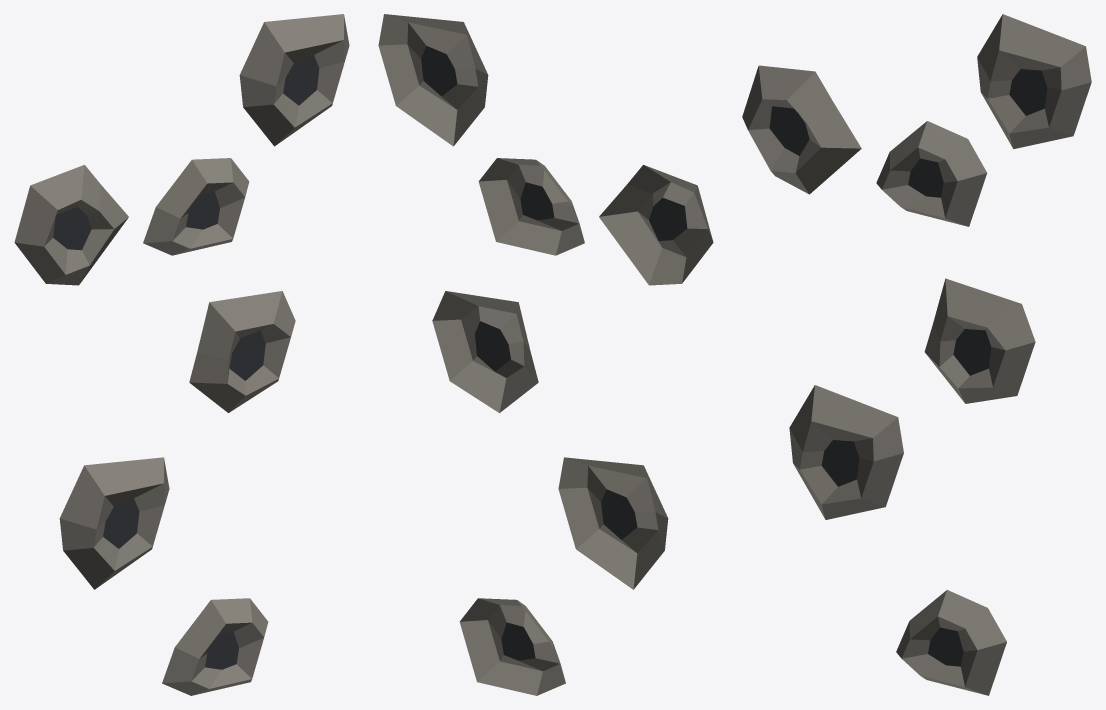
Rendered from SM_Bullet_Hole_D.gltf.
The picture shows the model from 3 angles, left to right: view 1: azimuth 30°, elevation 25°; view 2: azimuth 150°, elevation 25°; view 3: azimuth 330°, elevation 25°; orthographic projection. The views are drawn at different scales.
Parts seen in each view (by area): view 1: SM_Bullet_Hole_D; view 2: SM_Bullet_Hole_D; view 3: SM_Bullet_Hole_D.
Boxes of the visible parts, <box> form: SM_Bullet_Hole_D: <box>14,14,349,695</box>; SM_Bullet_Hole_D: <box>378,14,713,695</box>; SM_Bullet_Hole_D: <box>742,14,1091,695</box>.
Size of the model in its own units: 0.7724 by 1.45 by 0.0482.
Materials: 1 (1 with a texture image).
